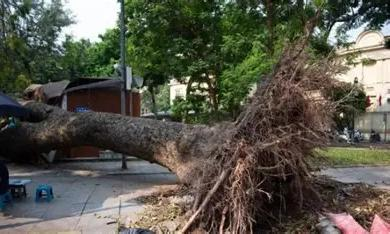ROAD_OBSTACLE: (5, 40, 360, 215)
